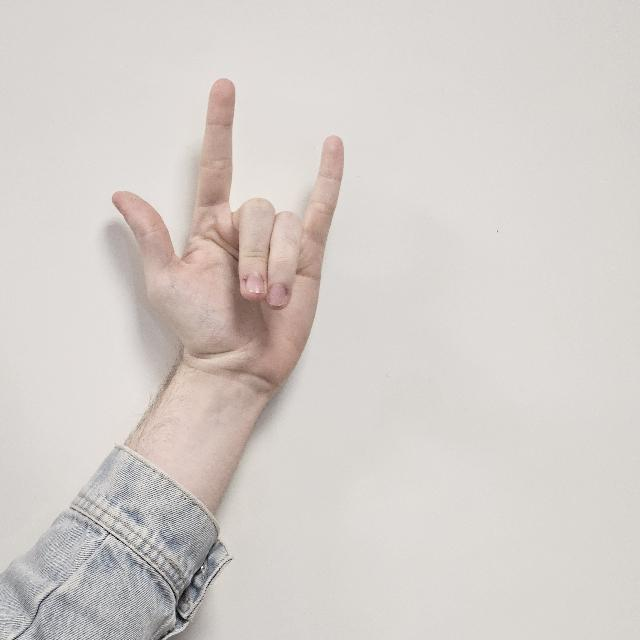Cima: (106, 77, 346, 390)
